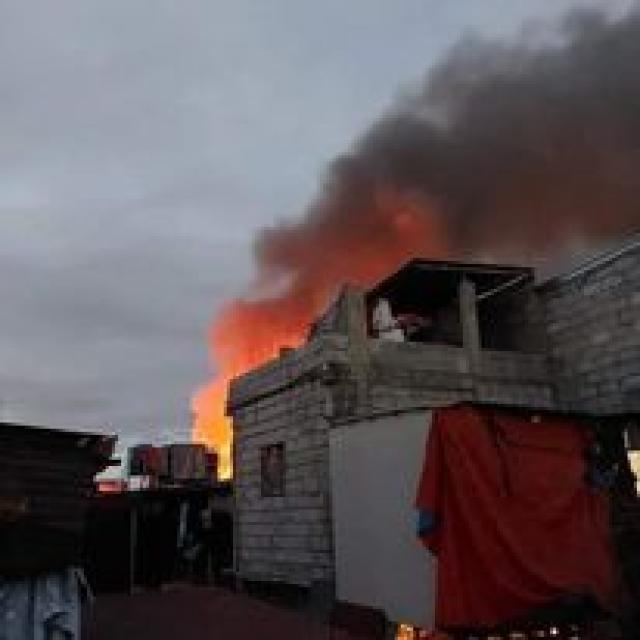Fire: (201, 400, 241, 454)
Smoke: (435, 50, 640, 222)
